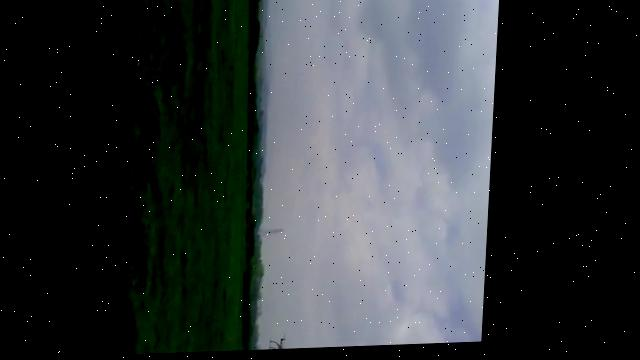drone: (269, 338, 292, 352)
